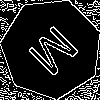M: (26, 23, 88, 85)
